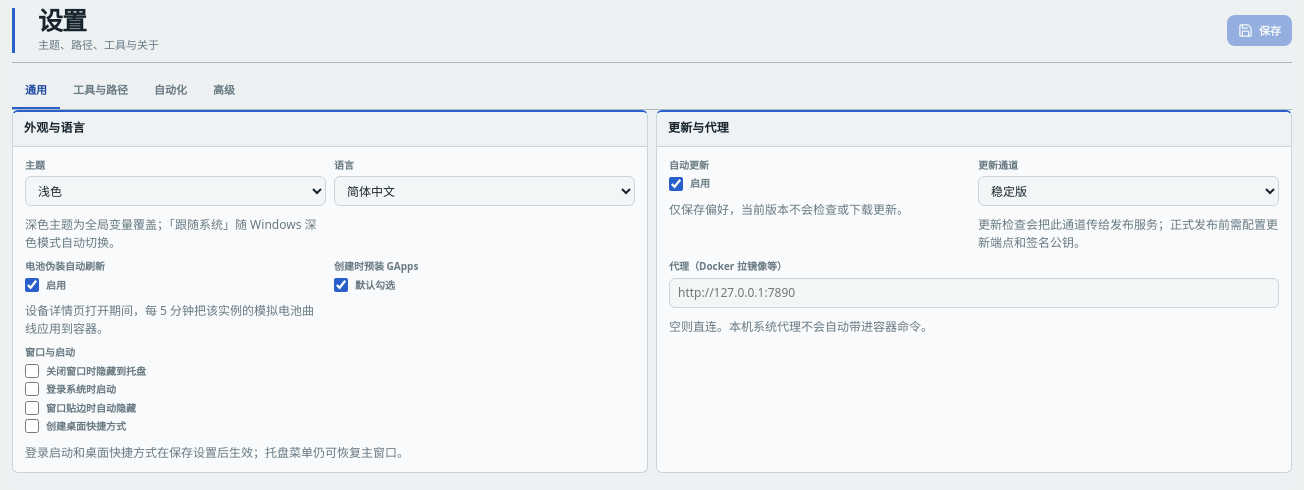
SettingsPage default runtime track › renders the dropdown with the saved track
Click the tab "高级" at coordinates (224, 91), box [200,73,248,109]
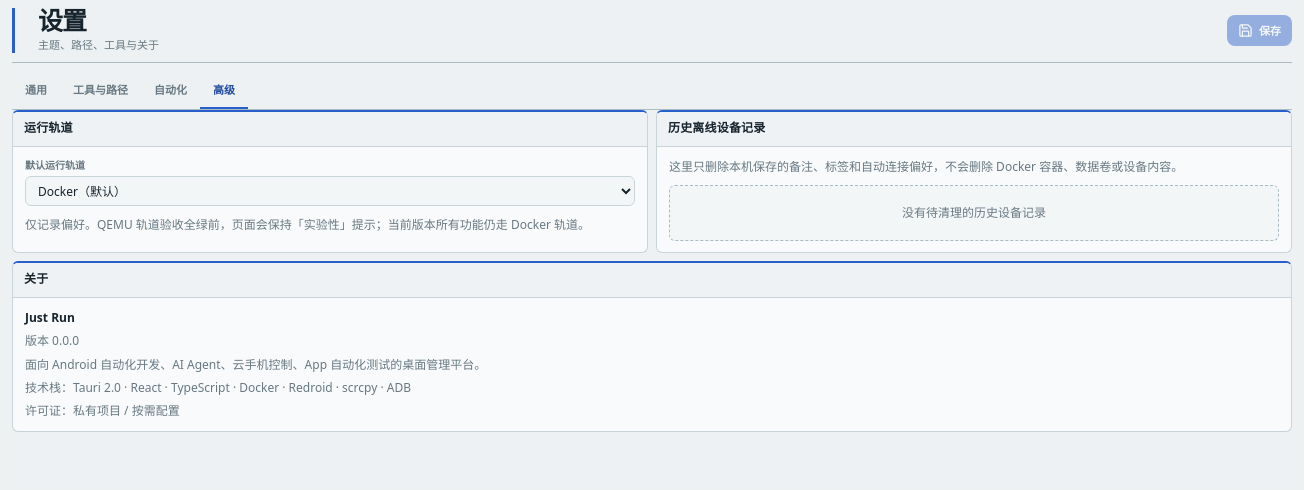
Result: the dropdown shows "Docker（默认）" at [25,176,635,206]
